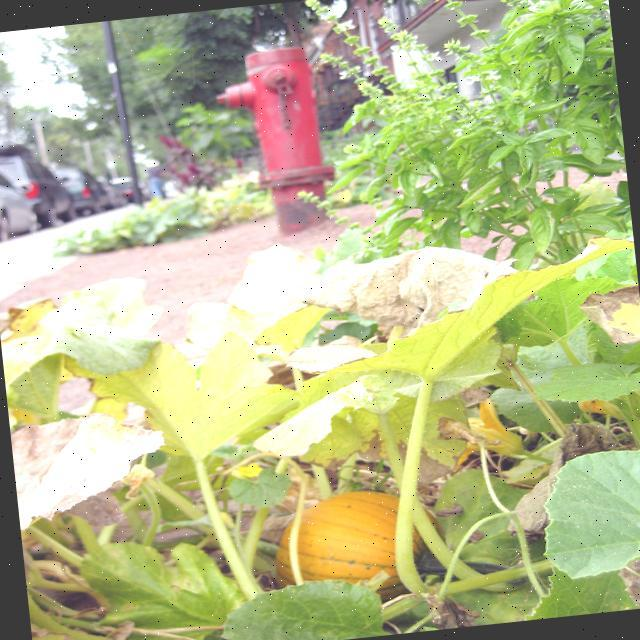fire_hydrant: (208, 38, 342, 240)
